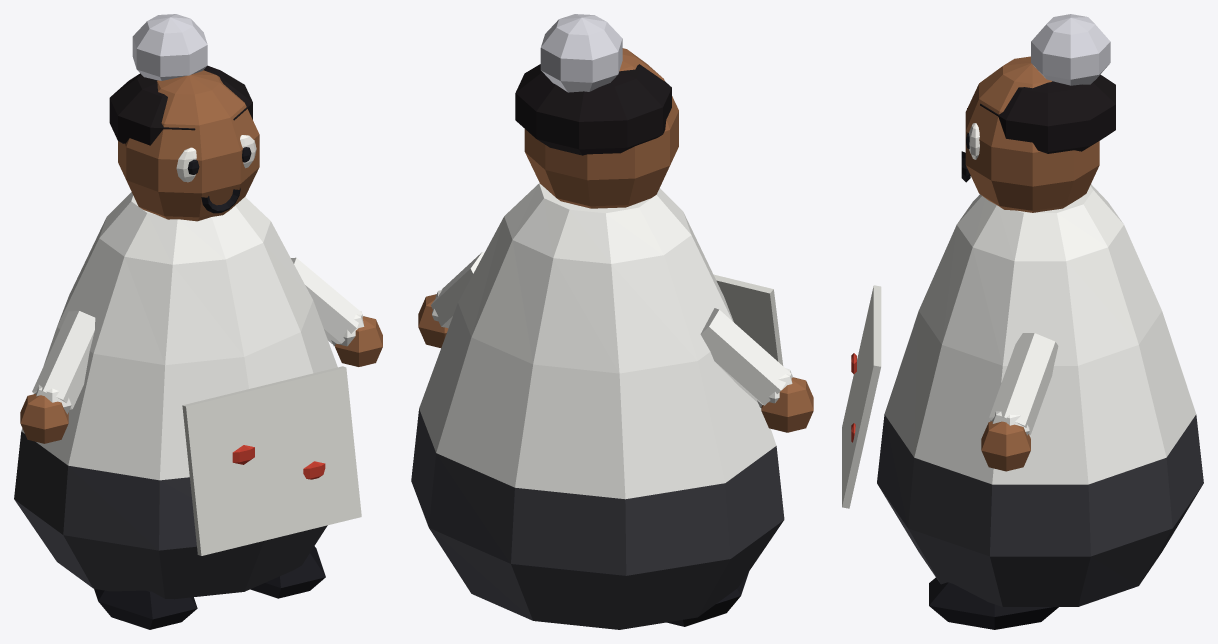
Rendered from npc_cocinera.glb.
3 renders of one model, left to right at view 1: azimuth 30°, elevation 25°; view 2: azimuth 150°, elevation 25°; view 3: azimuth 270°, elevation 25°, orthographic. The views are drawn at different scales.
Parts seen in each view (by area): view 1: body_chef_white, body_chef_apron, body_check_pants, head_skin_cacao, arms_chef_white, legs_black, head_hairnet, head_hair_black, arms_skin_cacao, face_white, face_black; view 2: body_chef_white, body_check_pants, head_hair_black, head_skin_cacao, arms_chef_white, head_hairnet, body_chef_apron, arms_skin_cacao, legs_black; view 3: body_chef_white, body_check_pants, head_skin_cacao, head_hair_black, head_hairnet, body_chef_apron, arms_chef_white, legs_black, arms_skin_cacao.
Boxes of the visible parts, bbox=[...] form: body_chef_white: bbox=[21, 192, 337, 480]; body_chef_apron: bbox=[182, 366, 361, 555]; body_check_pants: bbox=[14, 431, 327, 599]; head_skin_cacao: bbox=[118, 70, 259, 221]; arms_chef_white: bbox=[32, 257, 364, 414]; legs_black: bbox=[94, 546, 325, 629]; head_hairnet: bbox=[132, 14, 207, 80]; head_hair_black: bbox=[109, 65, 252, 145]; arms_skin_cacao: bbox=[20, 316, 382, 443]; face_white: bbox=[176, 135, 256, 182]; face_black: bbox=[187, 147, 251, 213]; body_chef_white: bbox=[419, 183, 776, 499]; body_check_pants: bbox=[411, 409, 784, 629]; head_hair_black: bbox=[515, 64, 671, 155]; head_skin_cacao: bbox=[524, 48, 678, 208]; arms_chef_white: bbox=[431, 252, 793, 407]; head_hairnet: bbox=[540, 14, 622, 92]; body_chef_apron: bbox=[713, 274, 783, 365]; arms_skin_cacao: bbox=[418, 294, 813, 432]; legs_black: bbox=[666, 572, 748, 626]; body_chef_white: bbox=[884, 184, 1195, 484]; body_check_pants: bbox=[877, 414, 1203, 606]; head_skin_cacao: bbox=[965, 56, 1099, 212]; head_hair_black: bbox=[980, 74, 1115, 153]; head_hairnet: bbox=[1031, 14, 1110, 85]; body_chef_apron: bbox=[842, 285, 881, 508]; arms_chef_white: bbox=[989, 333, 1058, 435]; legs_black: bbox=[929, 577, 1058, 629]; arms_skin_cacao: bbox=[981, 421, 1030, 471].
Size of the model in its own units: 1.13 by 1.66 by 0.9515.
